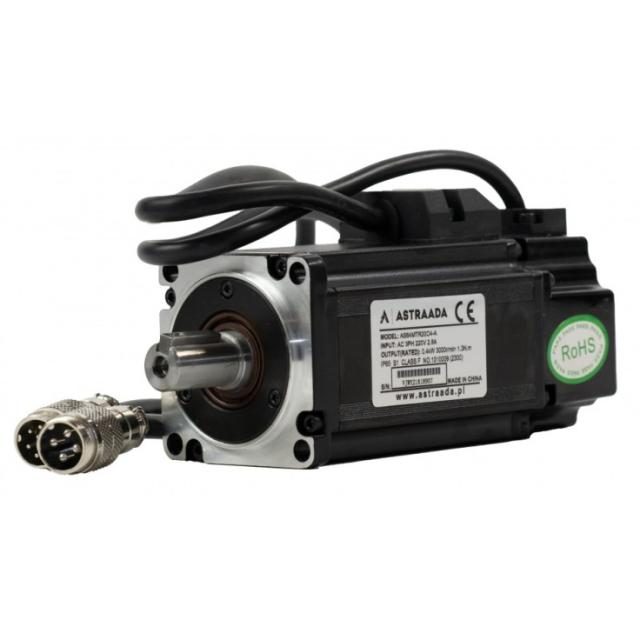servomotor: (17, 114, 638, 506)
